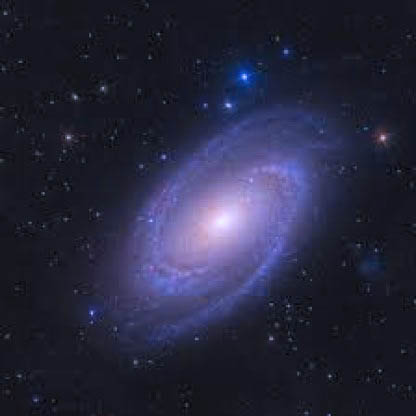Messier 81: (95, 67, 401, 371)
